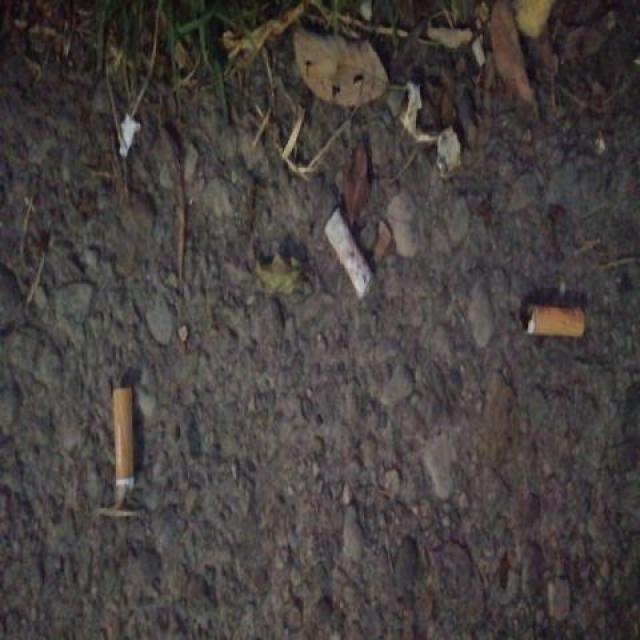non-organic waste: (322, 202, 378, 306), (108, 383, 137, 504), (517, 298, 588, 346)
